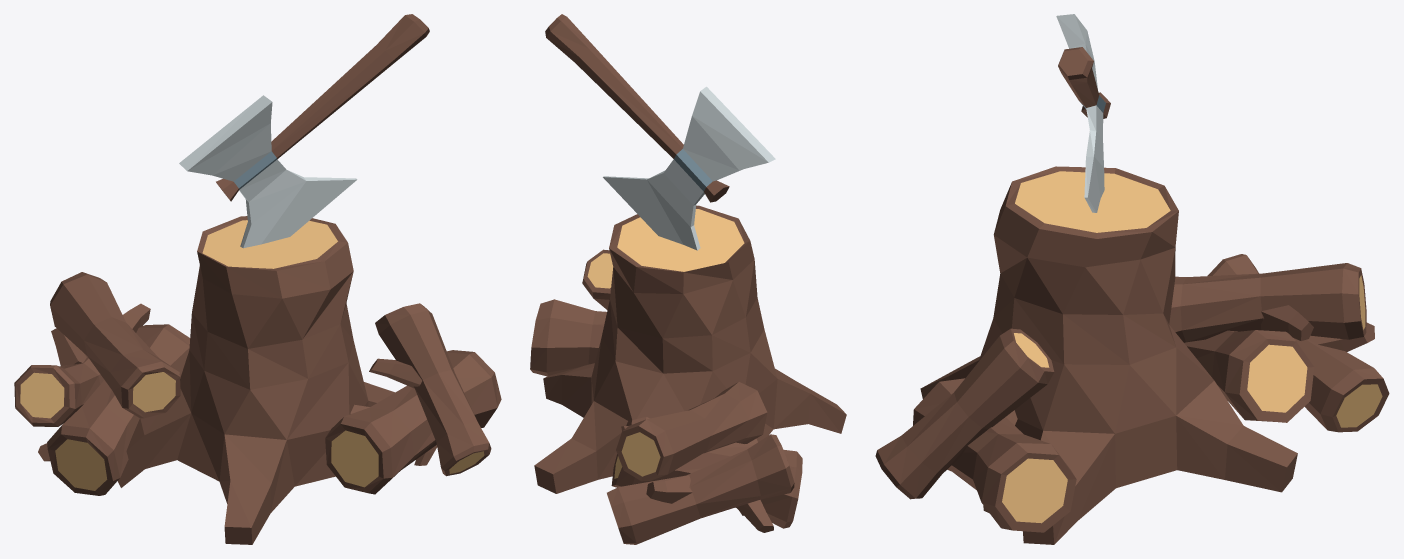
File: logs.glb
3 renders of one model, left to right at view 1: azimuth 30°, elevation 25°; view 2: azimuth 150°, elevation 25°; view 3: azimuth 270°, elevation 25°, orthographic. The views are drawn at different scales.
Parts seen in each view (by area): view 1: group1045108175; view 2: group1045108175; view 3: group1045108175.
Part boxes in pixels (<box>): group1045108175: <box>14,14,501,544</box>; group1045108175: <box>530,14,846,544</box>; group1045108175: <box>875,14,1389,544</box>.
Size of the model in its own units: 0.2707 by 0.3023 by 0.2775.
